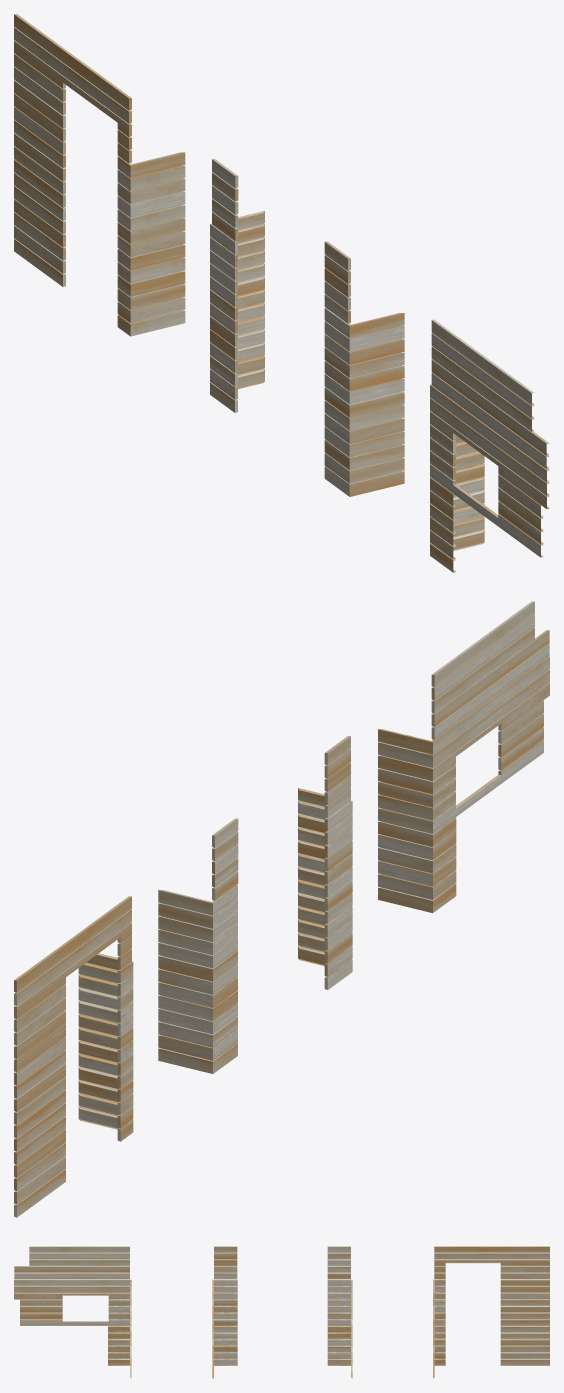
Rendered from bakeTest.gltf.
3 renders of one model, top to bottom at view 1: azimuth 30°, elevation 25°; view 2: azimuth 150°, elevation 25°; view 3: azimuth 270°, elevation 25°, orthographic. The views are drawn at different scales.
Parts seen in each view (by area): view 1: wooden planks wall; view 2: wooden planks wall; view 3: wooden planks wall.
Boxes of the visible parts, x1,y1,x2,y2 form: wooden planks wall: (14,14,549,572); wooden planks wall: (14,601,549,1217); wooden planks wall: (14,1246,549,1378).
Bounding box in the file's own units: 0.7116 × 2.94 × 11.99.
Materials: 1 (1 with a texture image).
